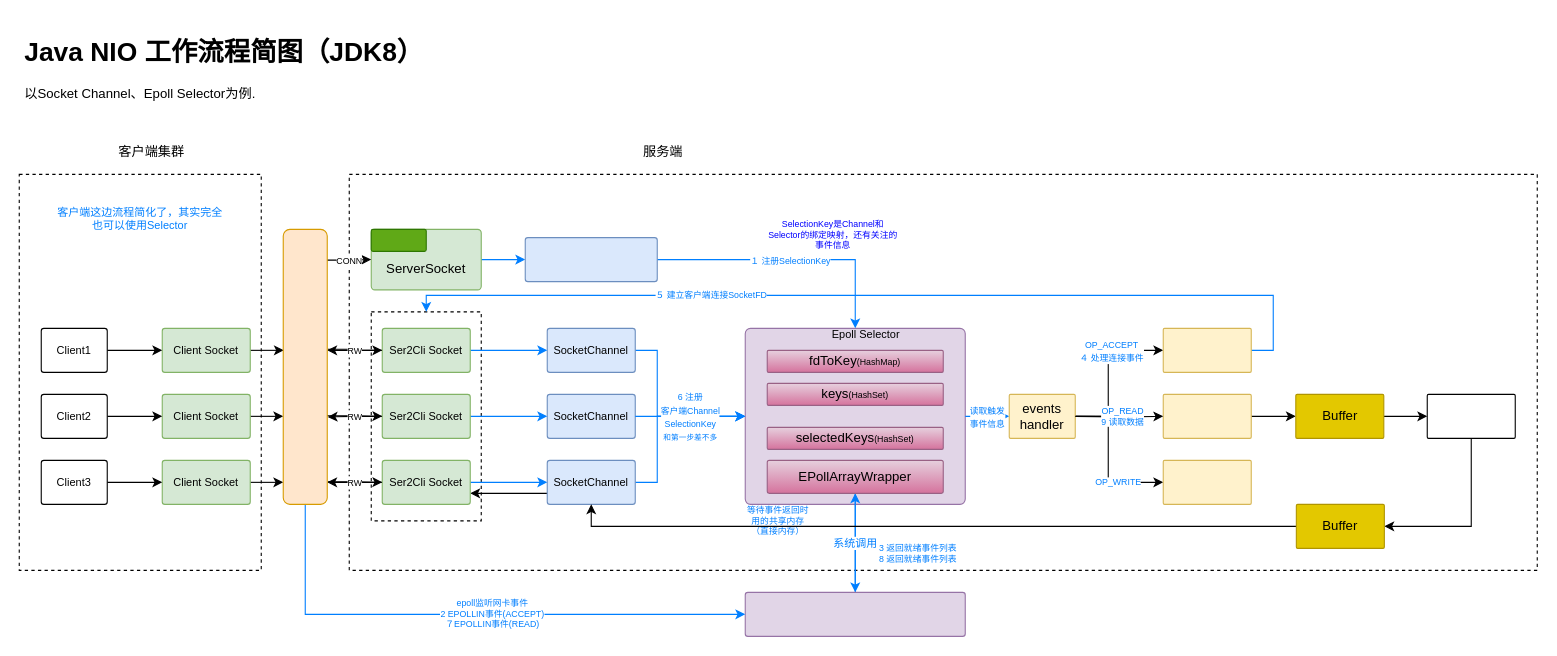
The diagram is 1557 pixels wide and 656 high, and some of its shapes have lost their labels. The centre of each missing label's shape, as x and y in pixels:
AcceptHandler: point 1206,349
BizService: point 1470,415
Linux epoll: point 854,613
port: point 398,239
ReadHandler 从Ser2CliSocket读: point 1206,415
ServerSocketChannel: point 590,259
TCP/IP: point 304,366
WriteHandler 写的前置处理: point 1206,481
